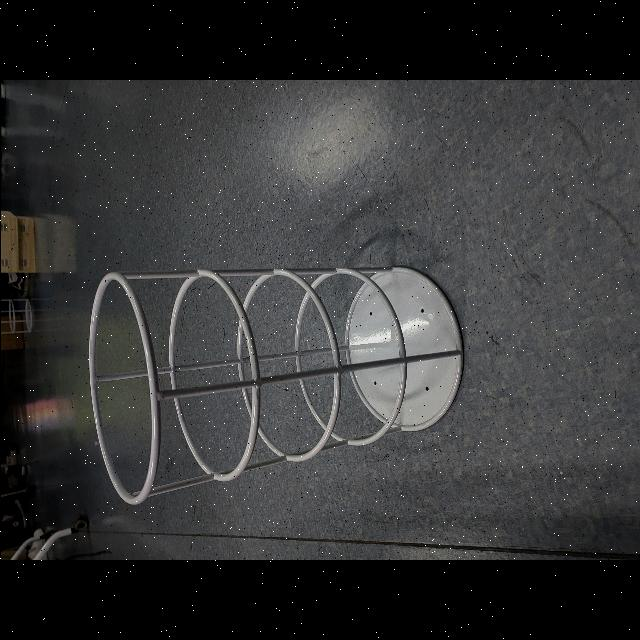S: (80, 260, 468, 508)
